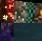lifeC: (0, 0, 14, 23)
